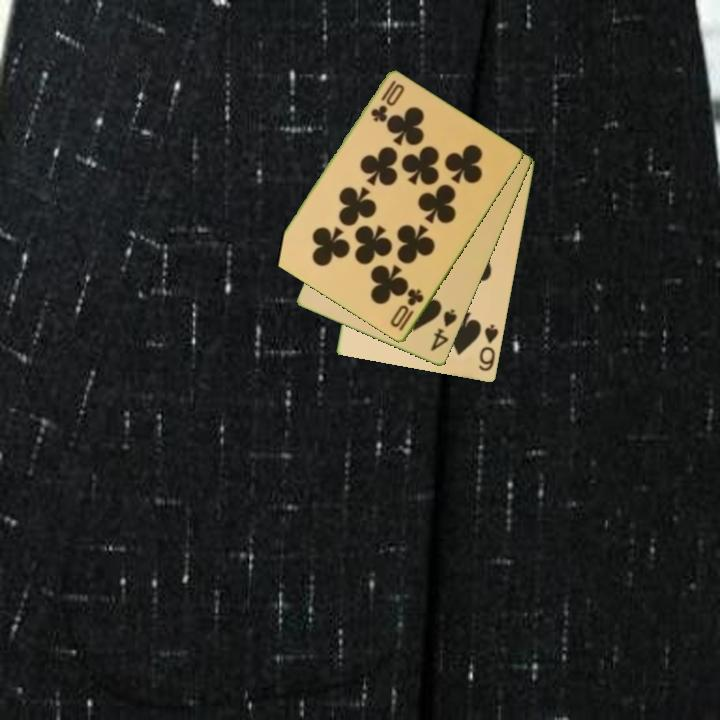10c: (387, 285, 427, 334), (367, 77, 399, 125)
4s: (427, 306, 460, 355)
6s: (475, 321, 501, 374)
